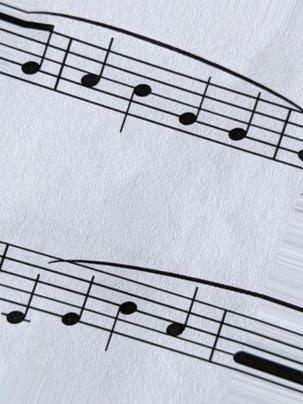A: (163, 283, 203, 362), (78, 33, 116, 115)
B: (117, 48, 154, 137), (103, 268, 139, 354)
E: (61, 260, 98, 330)
G: (176, 70, 214, 142), (227, 85, 262, 158)
LC: (2, 240, 43, 331)
